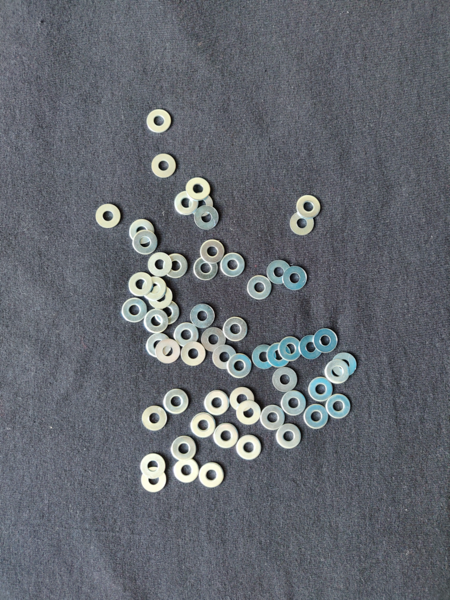circle: (93, 202, 124, 230), (140, 406, 169, 435), (188, 190, 216, 219), (128, 218, 157, 245), (162, 387, 189, 416), (169, 434, 198, 461), (287, 211, 317, 237), (265, 258, 292, 286), (140, 451, 168, 478), (199, 461, 226, 489), (188, 412, 215, 440), (282, 266, 311, 292), (259, 403, 285, 432), (246, 275, 273, 302), (121, 297, 148, 324), (145, 332, 172, 359), (235, 434, 262, 461), (193, 205, 221, 231), (131, 230, 159, 256), (313, 326, 339, 354), (173, 456, 199, 484), (272, 367, 298, 395), (224, 316, 249, 345), (141, 467, 170, 492), (295, 194, 322, 220), (212, 424, 239, 450), (303, 404, 330, 430), (146, 107, 171, 135), (212, 344, 237, 372), (299, 333, 324, 361), (331, 352, 359, 377), (173, 191, 199, 217), (163, 253, 189, 279), (227, 353, 253, 379), (251, 344, 277, 370), (204, 389, 230, 415), (236, 400, 262, 426), (202, 326, 227, 353), (230, 385, 255, 412), (279, 391, 306, 416), (150, 154, 176, 179), (221, 253, 247, 278), (268, 342, 293, 368), (276, 423, 301, 449), (199, 240, 226, 264), (129, 271, 153, 298), (148, 285, 175, 309), (279, 337, 303, 364), (148, 251, 171, 279), (186, 176, 211, 201), (326, 394, 351, 419), (143, 275, 167, 301), (153, 300, 179, 324), (174, 323, 200, 347), (144, 309, 168, 334), (181, 344, 206, 368), (190, 305, 215, 329), (157, 339, 180, 365), (194, 258, 218, 282), (309, 378, 332, 403), (326, 360, 349, 384)
